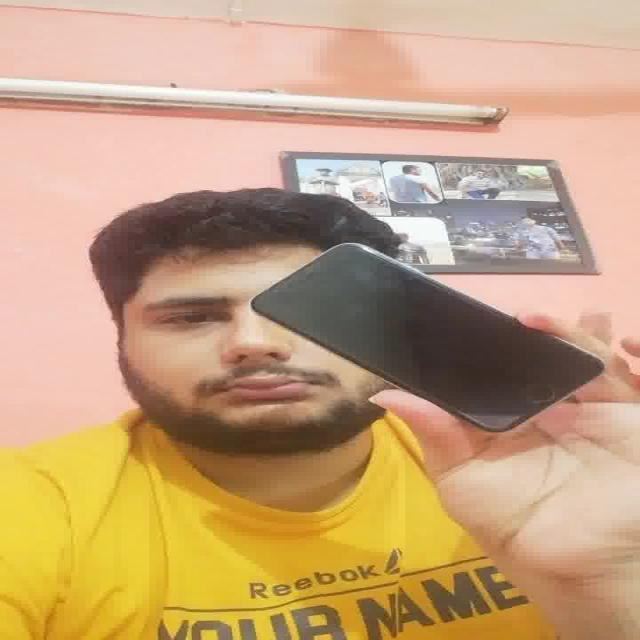Phone: (248, 240, 606, 432)
